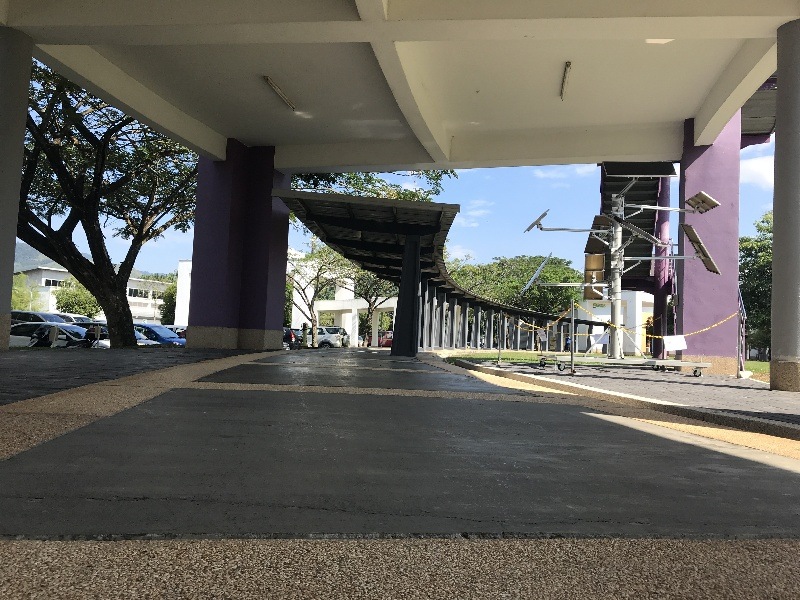pillar: (190, 136, 288, 351), (672, 110, 746, 389), (768, 20, 797, 398), (393, 229, 422, 361)
